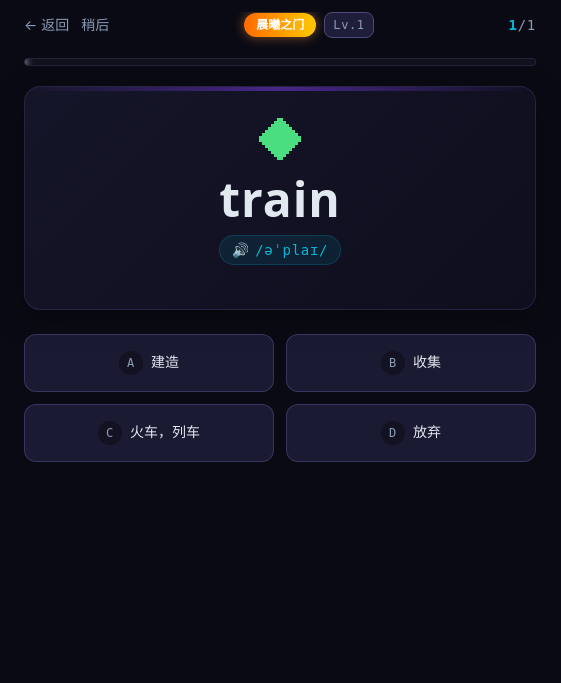
Test: 训练主循环 › 第二词性 › 答完在卡片上补充展示，但不进选项
The width and height of the screenshot is (561, 683).
Click the button "C 火车，列车". click: (149, 433)
box: [24,404,274,462]
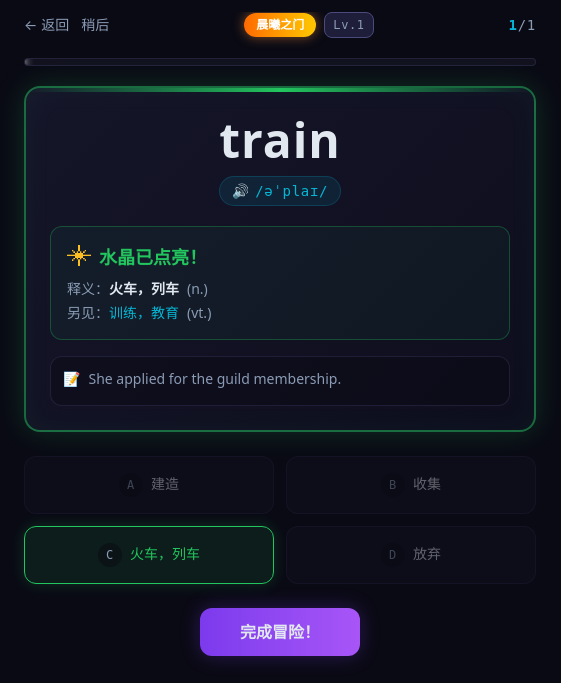
Expected: the text "另见" is shown, [67,303,109,322]
Expected: the text "训练，教育" is shown, [109,303,179,322]
Expected: the text "vt." is shown, [191,303,207,322]
